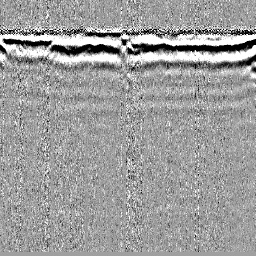cavity: (120, 40, 134, 55)
